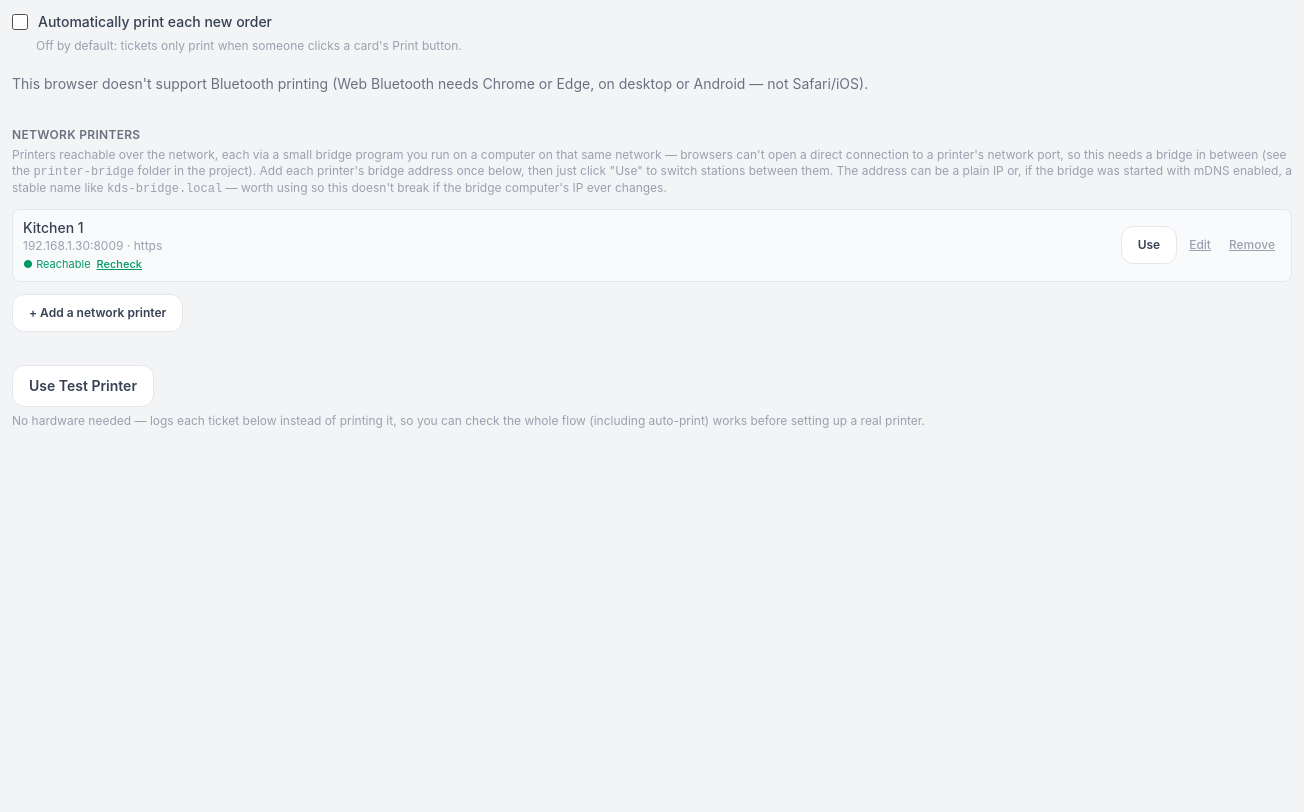
Test: PrinterConfig › Network Printers › opens Advanced automatically when editing a printer already on a non-default port
Click the button "Edit" at coordinates (1200, 245), box [1183,237,1217,253]
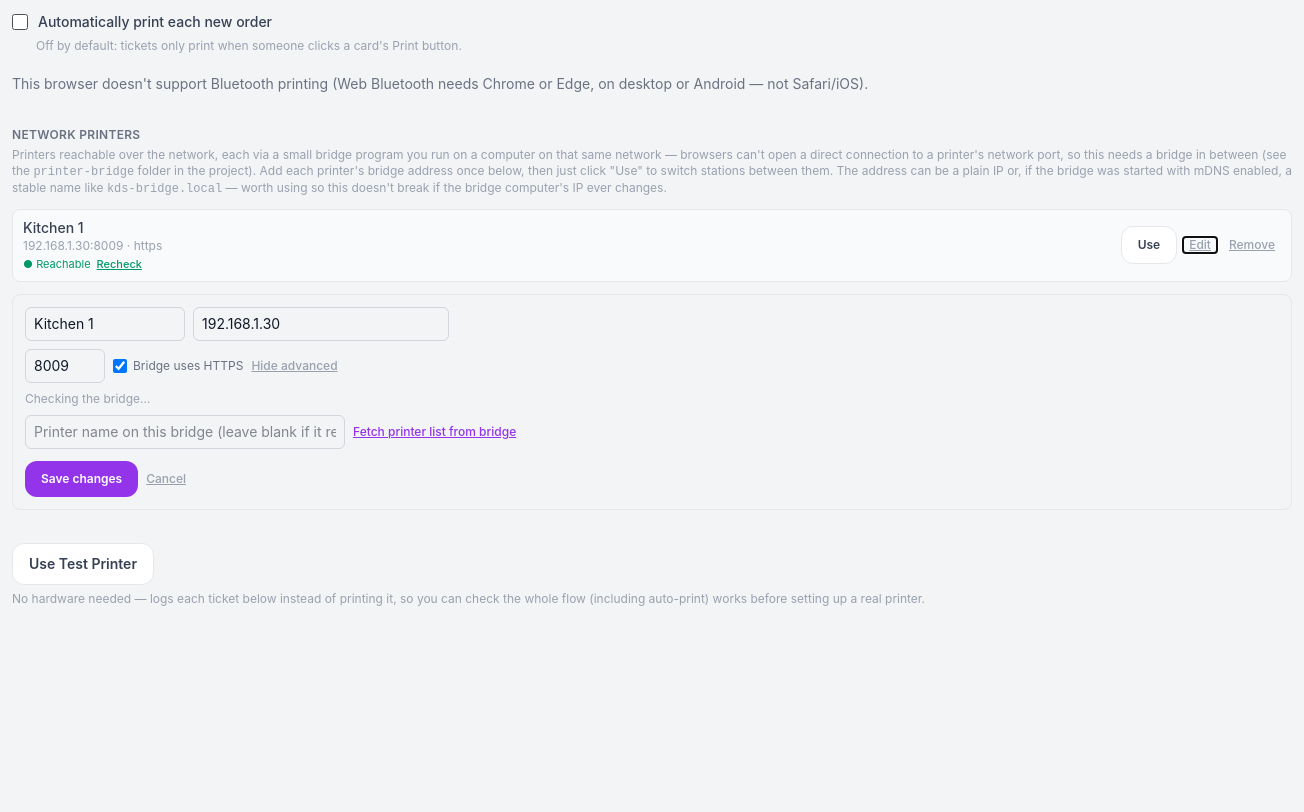
Check: the field named "printer bridge port" holds "8009", box [25,348,105,382]
